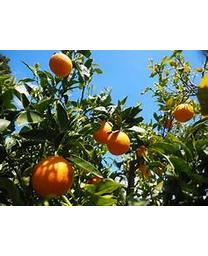lemon: (33, 154, 75, 199), (106, 130, 129, 155), (48, 53, 73, 76), (93, 120, 115, 145), (172, 102, 195, 121)
